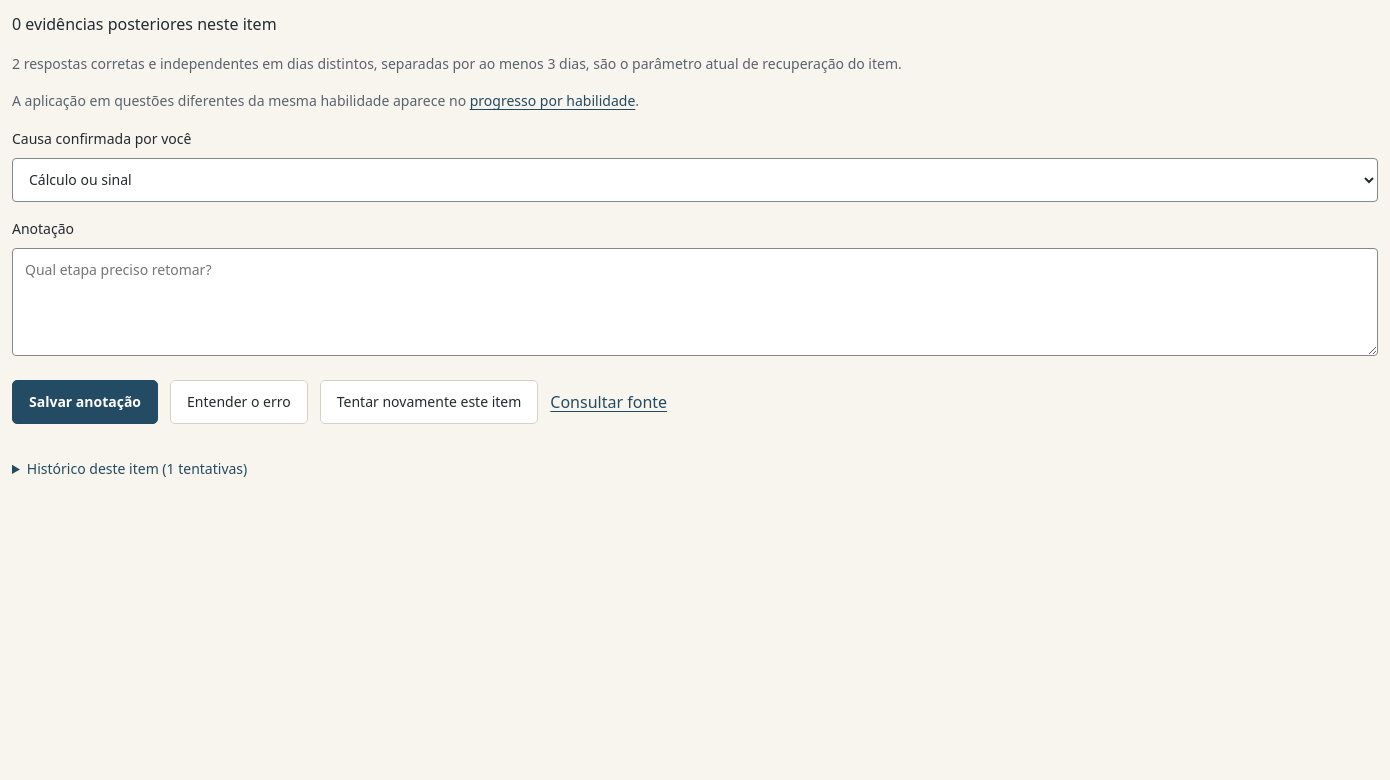
Test: a concurrent assessment prevents a pending notebook exposure from opening support
Click the button "Entender o erro". click: click(239, 402)
box: [170,380,308,424]
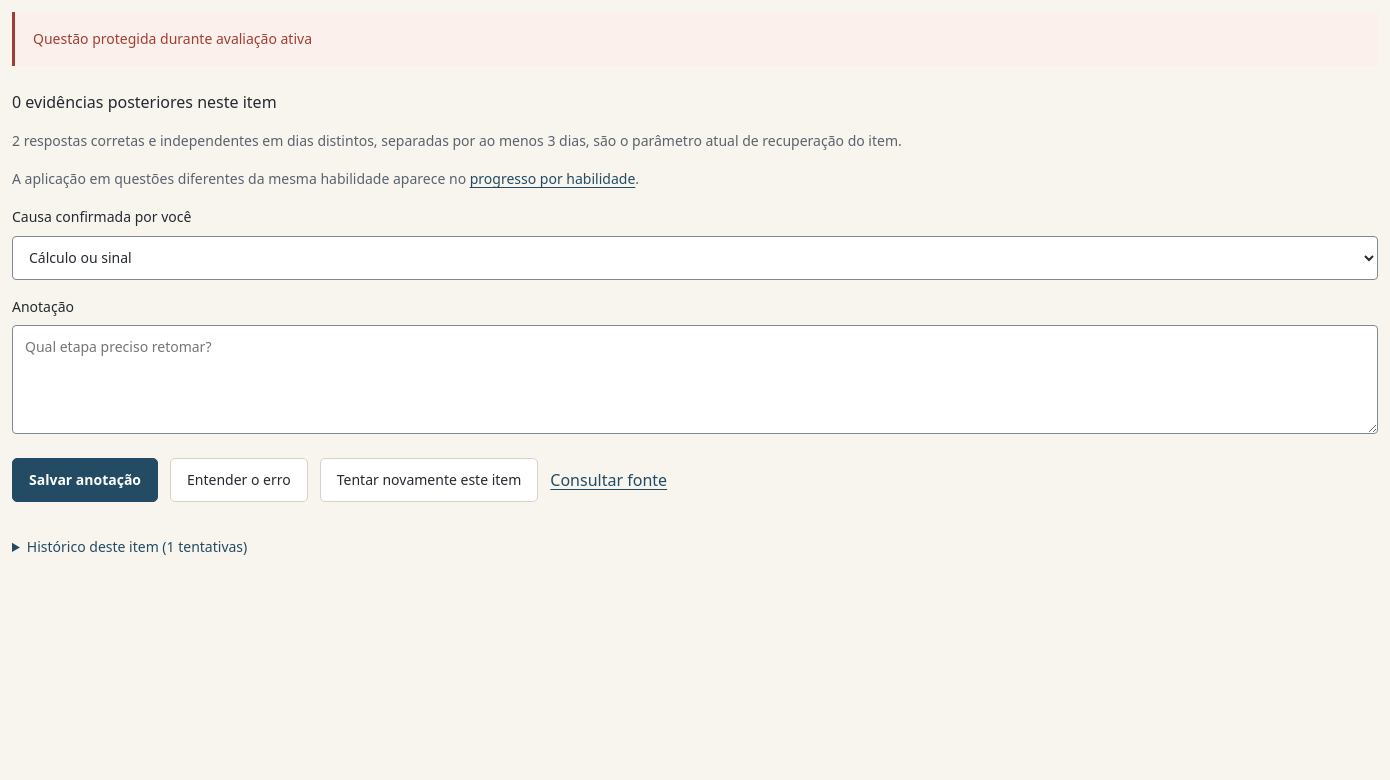
Result: the text "Questão protegida durante avaliação ativa" is shown at [12,12,1378,66]
